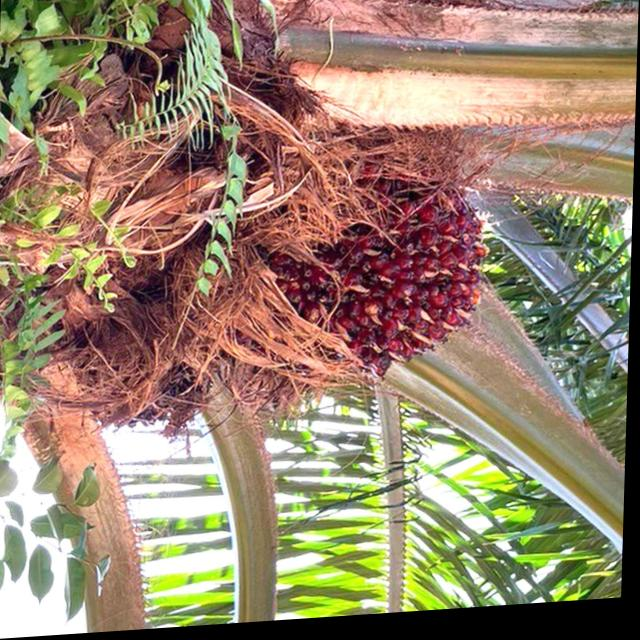ripe: (223, 151, 496, 397)
